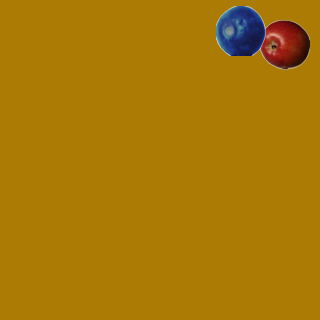Apple Braeburn: (259, 19, 309, 69)
Huckleberry: (215, 5, 265, 55)
